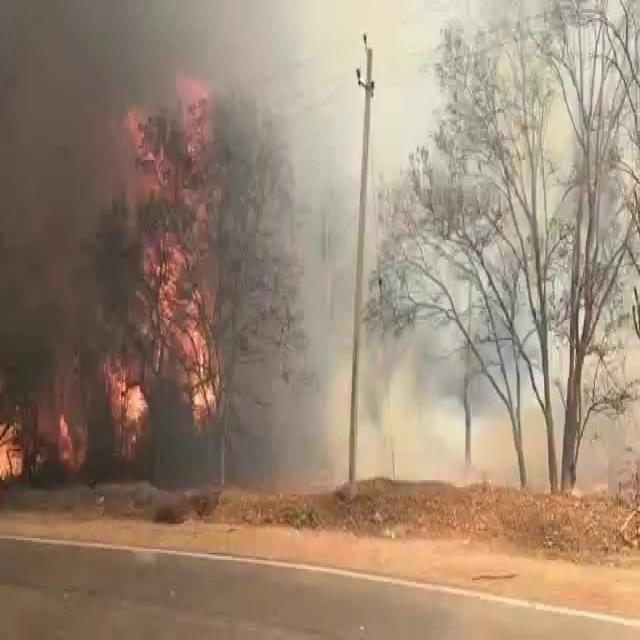Fire: (124, 78, 256, 420), (107, 360, 149, 461), (0, 424, 21, 478)
Smoke: (324, 124, 602, 492)
